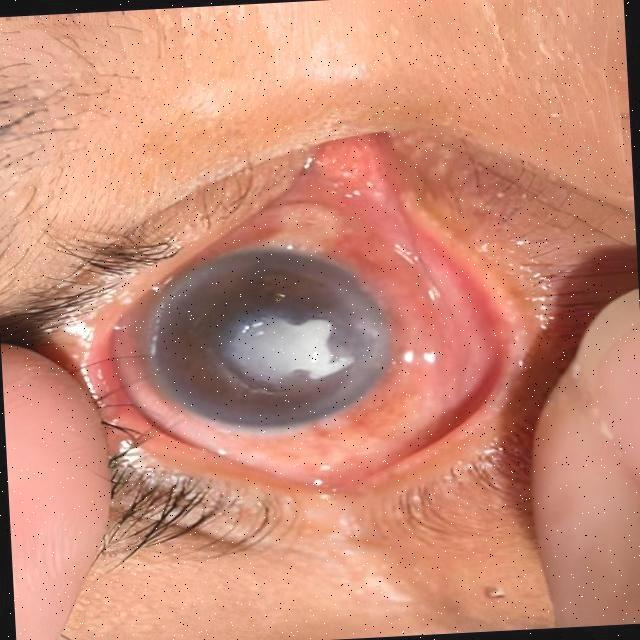Cataract: (119, 235, 407, 442)
